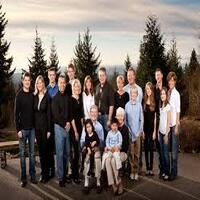person: (16, 69, 35, 96), (33, 69, 48, 102), (56, 71, 71, 102), (112, 71, 130, 95), (94, 65, 114, 86), (81, 116, 99, 139), (69, 77, 85, 102), (45, 65, 60, 91), (154, 88, 174, 107), (142, 78, 156, 105), (89, 105, 107, 125), (148, 67, 166, 87), (81, 72, 95, 97), (166, 66, 182, 87), (126, 64, 140, 87), (115, 108, 129, 126), (127, 86, 140, 103)
